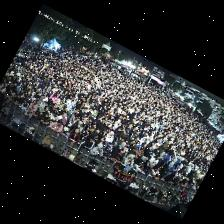person: (75, 136, 94, 157), (144, 155, 159, 174), (142, 146, 155, 162), (164, 164, 179, 177), (69, 129, 80, 146), (110, 150, 124, 163), (163, 173, 178, 185), (111, 143, 126, 154), (50, 120, 63, 132), (113, 127, 124, 141), (65, 96, 75, 111), (80, 125, 90, 140), (133, 158, 143, 173), (91, 144, 103, 156), (40, 112, 50, 126), (104, 132, 113, 147), (65, 116, 75, 129), (124, 154, 134, 167), (127, 146, 137, 159), (150, 167, 159, 181), (12, 94, 22, 106), (39, 98, 47, 112), (49, 104, 59, 115), (120, 129, 129, 141), (67, 106, 75, 119), (50, 111, 58, 124), (25, 107, 34, 118), (95, 136, 104, 147), (58, 111, 67, 122), (103, 145, 110, 159), (50, 91, 58, 103), (91, 128, 99, 140), (30, 99, 37, 112), (21, 100, 28, 113), (26, 92, 35, 102), (178, 178, 188, 187), (186, 180, 195, 190), (43, 106, 51, 116), (8, 94, 16, 103), (61, 127, 69, 136), (57, 100, 64, 110), (5, 90, 13, 98), (117, 138, 125, 146), (77, 122, 83, 132), (0, 84, 5, 95), (19, 89, 24, 99)
